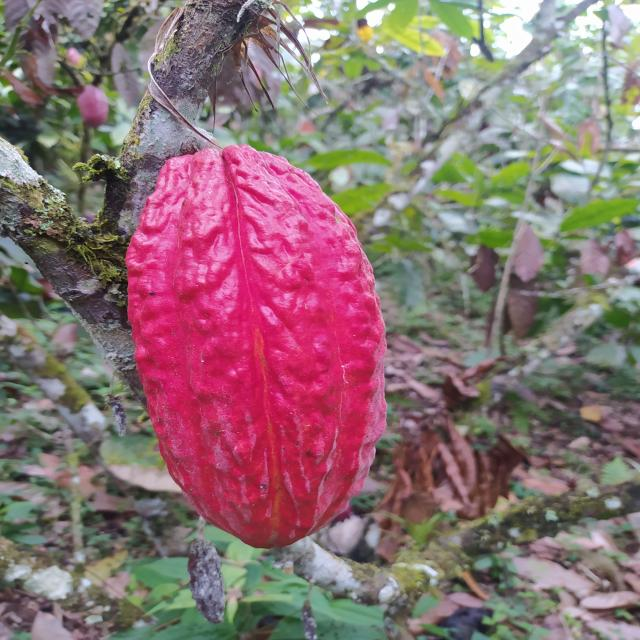Sana: (124, 143, 389, 551)
